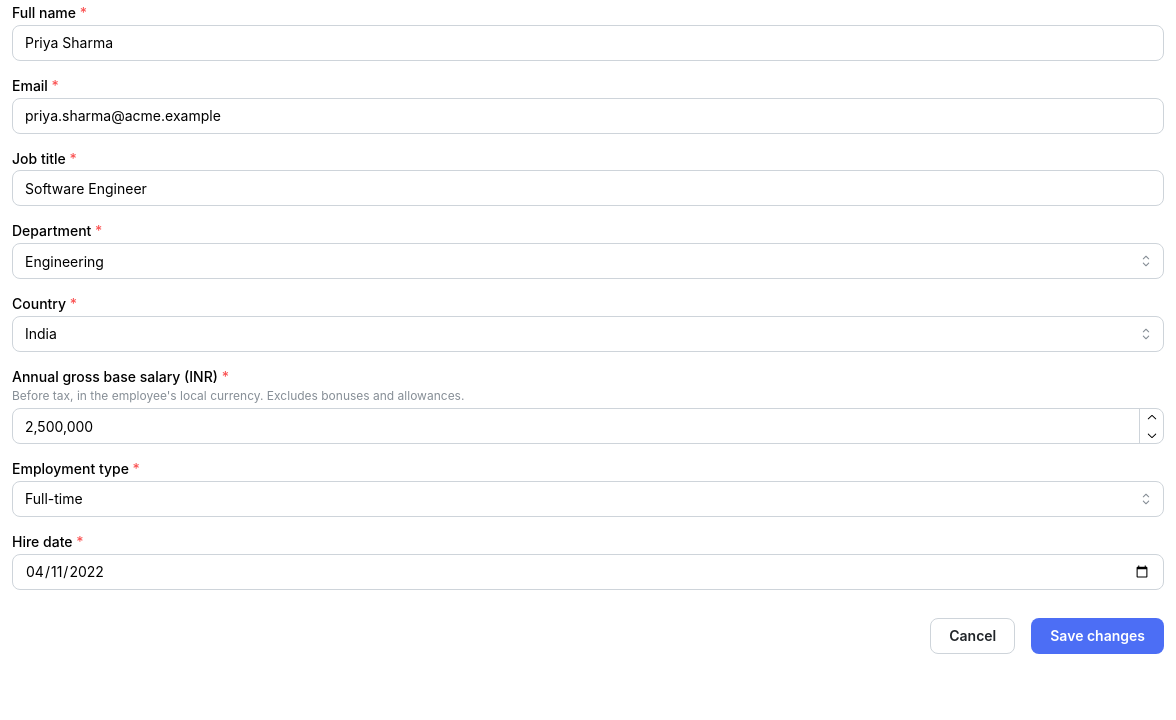
Test: EmployeeForm › shows server-side field errors next to the field
Click the button "Save changes".
click(1098, 636)  # box [1031,618,1164,654]
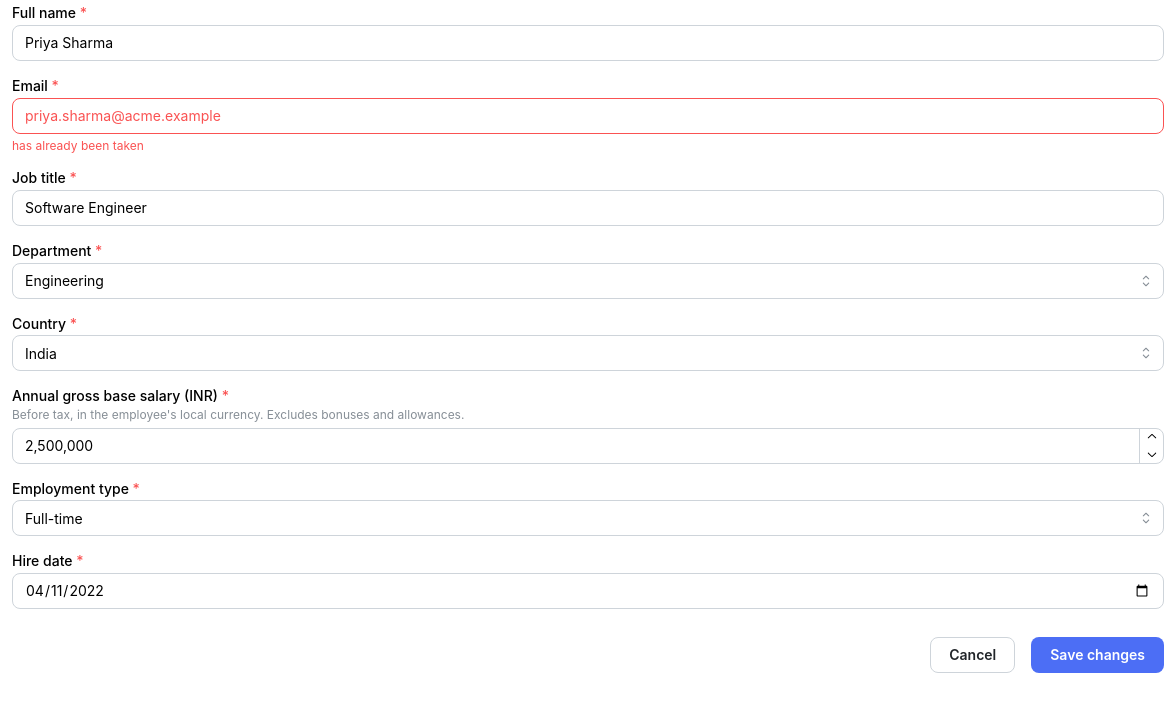
Now the text "has already been taken" is shown, box [12,138,144,153]
